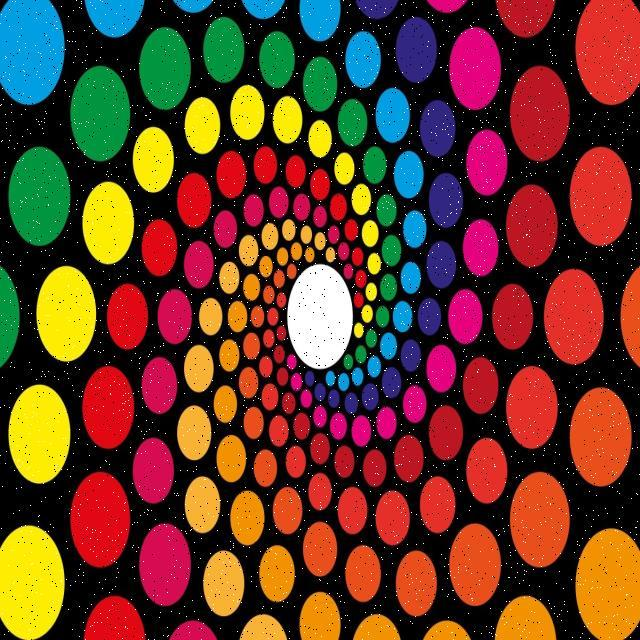Circle: (0, 524, 65, 640), (575, 527, 640, 640), (0, 0, 66, 107), (287, 264, 353, 370), (68, 464, 132, 572), (575, 0, 640, 106), (8, 382, 72, 487), (68, 64, 134, 165), (569, 385, 633, 489), (568, 144, 632, 248), (8, 144, 71, 248), (36, 265, 98, 367), (508, 66, 571, 162), (510, 472, 570, 569), (544, 268, 604, 365), (138, 520, 192, 608), (81, 180, 134, 268), (138, 27, 192, 112), (448, 26, 502, 110), (82, 362, 134, 449), (449, 522, 501, 607), (506, 366, 558, 451), (506, 184, 558, 268), (106, 282, 150, 353), (202, 548, 246, 617), (132, 436, 175, 506), (491, 282, 534, 351), (132, 124, 174, 194), (466, 129, 508, 198), (202, 17, 246, 82), (396, 550, 438, 618), (396, 16, 438, 84), (466, 437, 508, 504), (140, 216, 178, 278), (462, 218, 500, 279), (344, 30, 382, 90), (184, 96, 222, 156), (184, 474, 221, 534), (259, 544, 296, 604), (419, 476, 456, 536), (344, 544, 382, 602), (175, 403, 212, 462), (374, 490, 412, 547), (463, 356, 499, 416), (258, 32, 296, 88), (299, 590, 341, 640), (156, 288, 192, 346), (428, 172, 464, 230), (448, 287, 483, 346), (176, 171, 212, 228), (302, 520, 338, 577), (302, 56, 338, 113), (428, 404, 463, 462), (421, 100, 456, 158), (230, 84, 265, 142), (230, 489, 265, 546), (142, 358, 177, 413), (376, 89, 410, 144), (426, 240, 458, 292), (425, 344, 458, 394), (272, 486, 304, 536), (182, 239, 214, 288), (272, 96, 304, 145), (216, 433, 246, 485), (216, 150, 247, 200), (183, 344, 214, 394), (392, 150, 424, 198), (393, 434, 424, 482), (338, 99, 368, 148), (338, 486, 368, 534), (417, 296, 442, 338), (402, 209, 428, 249), (198, 296, 223, 336), (362, 448, 387, 488), (363, 146, 388, 186), (212, 208, 238, 246), (308, 472, 332, 512), (253, 146, 278, 184), (308, 119, 332, 158), (404, 384, 427, 424), (254, 449, 278, 487), (214, 386, 237, 424), (284, 153, 306, 189), (242, 193, 264, 228), (284, 444, 306, 479), (334, 444, 356, 479), (376, 406, 398, 441), (381, 233, 403, 268), (218, 260, 240, 294), (351, 414, 373, 448), (400, 338, 422, 372), (392, 300, 414, 334), (400, 260, 422, 294), (334, 152, 356, 186), (268, 186, 290, 219), (268, 415, 290, 448), (238, 234, 259, 268), (381, 366, 402, 400), (377, 194, 398, 228), (238, 366, 259, 399), (351, 182, 372, 215), (310, 168, 330, 202), (228, 300, 248, 333), (310, 433, 330, 466), (244, 406, 264, 438), (220, 340, 240, 371), (260, 222, 280, 252), (360, 382, 380, 412), (292, 411, 311, 441), (361, 218, 379, 248), (330, 192, 348, 222), (292, 192, 310, 222), (380, 331, 398, 361), (242, 332, 261, 360), (242, 273, 260, 301), (260, 383, 278, 411), (330, 412, 348, 440), (380, 274, 398, 302), (258, 354, 274, 379), (344, 392, 359, 416), (367, 355, 382, 378), (344, 218, 358, 242), (313, 204, 327, 228), (375, 306, 390, 328), (282, 218, 296, 241), (260, 255, 274, 278), (251, 305, 265, 328), (282, 392, 296, 415), (314, 405, 328, 428), (368, 253, 382, 275), (300, 388, 313, 410), (364, 282, 378, 302), (364, 329, 378, 349), (354, 344, 368, 364), (263, 284, 275, 306), (337, 372, 350, 392), (300, 224, 313, 244), (327, 224, 340, 244), (328, 388, 340, 409), (274, 344, 286, 364), (352, 366, 364, 386), (276, 366, 288, 386), (290, 372, 302, 392), (314, 382, 326, 402), (273, 269, 285, 288), (276, 247, 288, 266), (290, 241, 302, 260), (314, 232, 326, 251), (338, 242, 350, 261), (361, 305, 373, 324), (263, 329, 275, 348), (352, 248, 364, 266), (355, 270, 367, 288), (268, 307, 278, 325), (344, 263, 354, 279), (354, 292, 364, 308), (354, 322, 364, 338), (304, 370, 314, 386), (276, 292, 286, 308), (344, 355, 354, 370), (276, 326, 286, 341), (326, 247, 335, 263), (288, 354, 296, 370), (306, 247, 314, 262), (326, 371, 334, 386), (288, 264, 296, 278)
